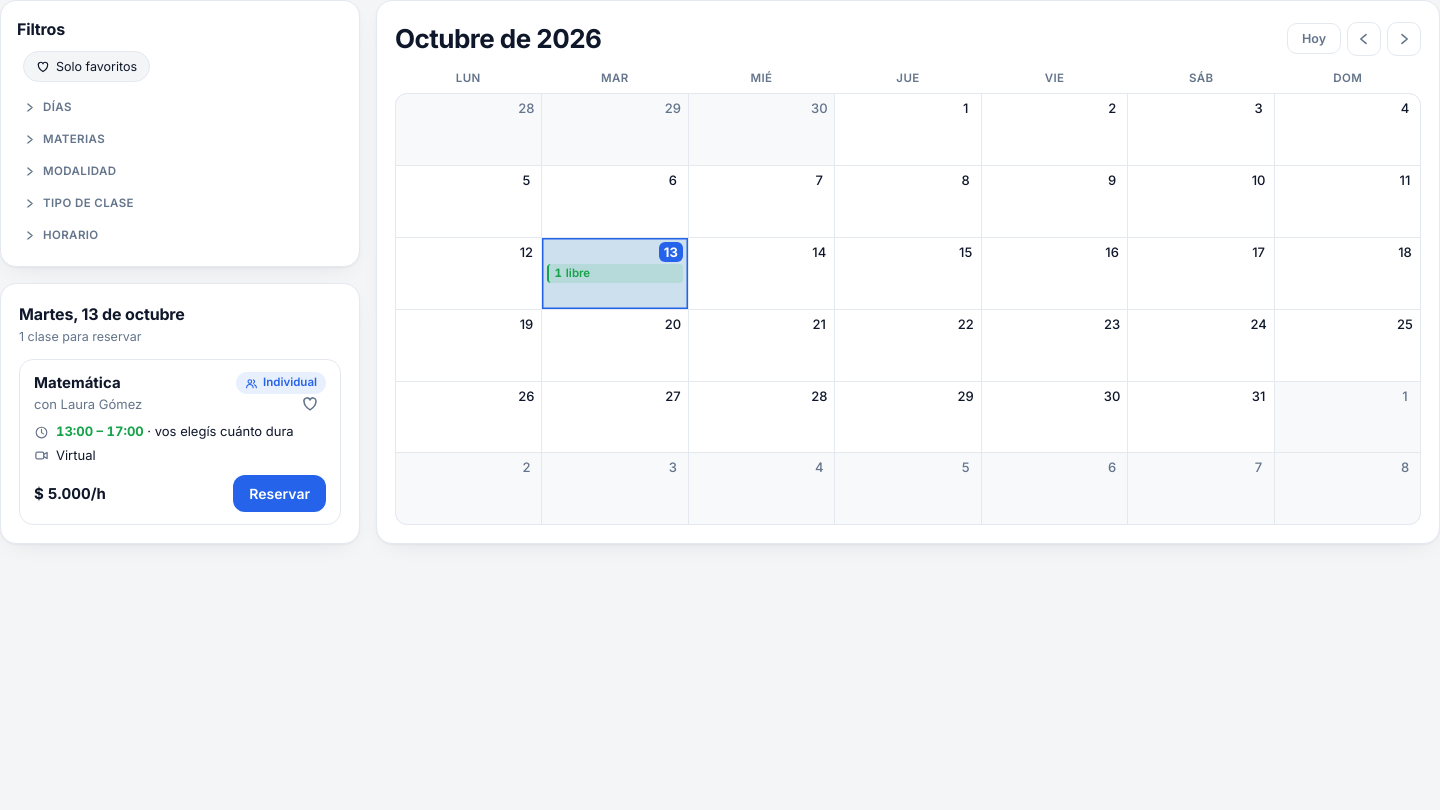
Test: BookingBoard › solo ofrece chips de materias que están en el rango cargado
This screenshot has width=1440, height=810.
Click the button "Materias": (74, 139) 17,124 -> 343,154
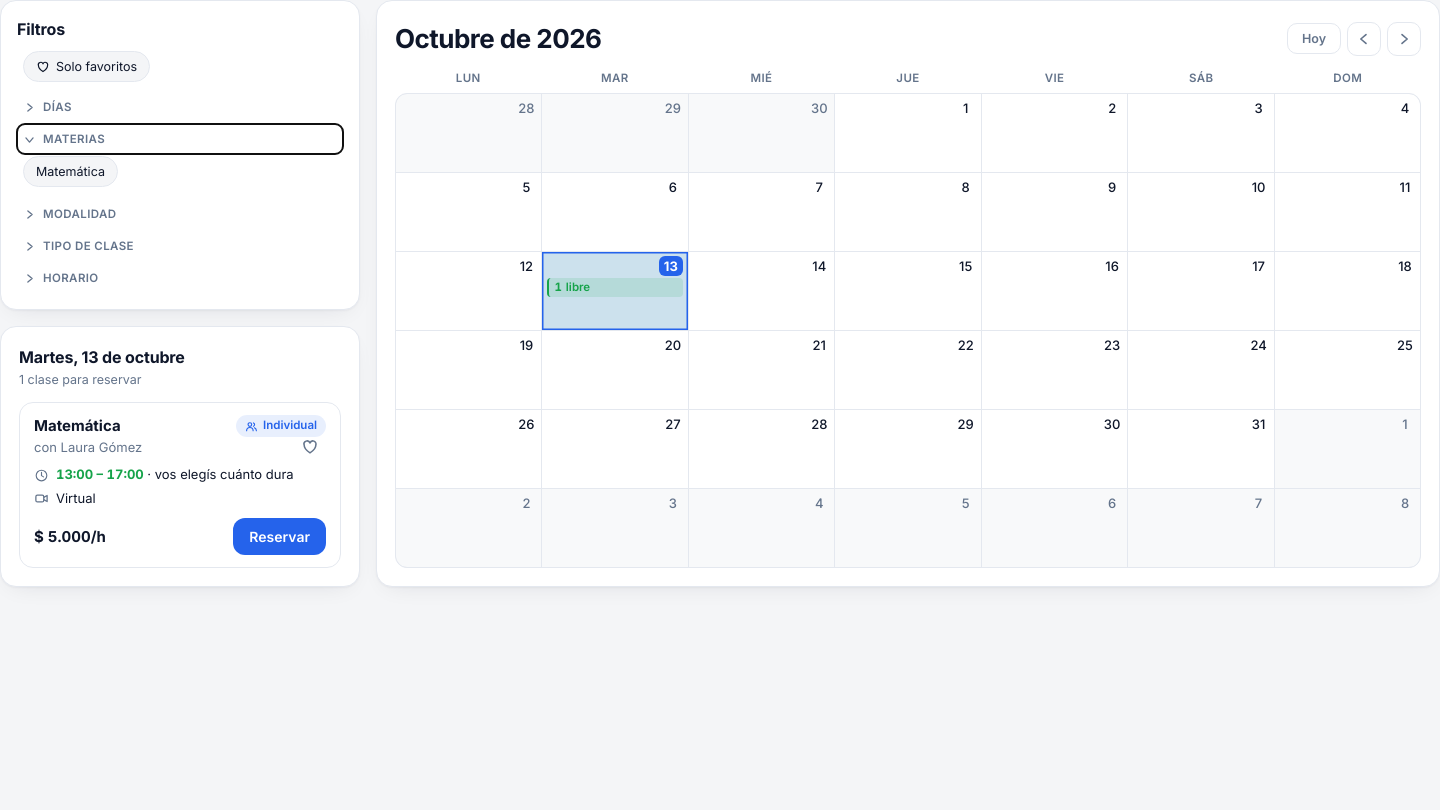
Check: the button "Matemática" is shown, box 23,156 -> 118,187
